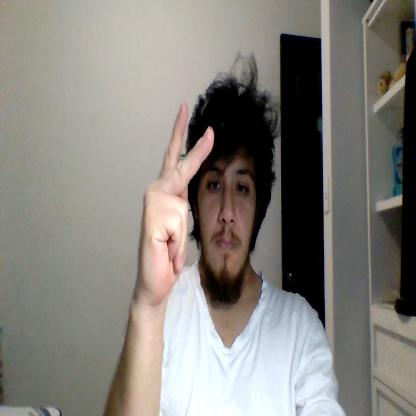P: (136, 100, 213, 306)
